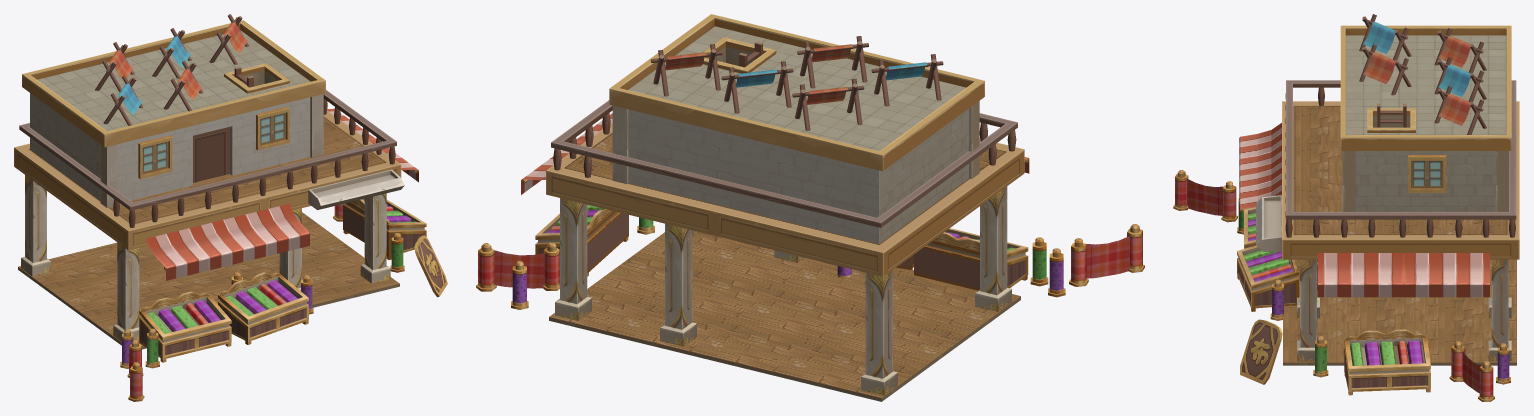
Rendered from zhucheng_buyidian.FBX.
3 views of the same model, side by side, from view 1: azimuth 30°, elevation 25°; view 2: azimuth 150°, elevation 25°; view 3: azimuth 270°, elevation 25° (orthographic). The views are drawn at different scales.
Parts seen in each view (by area): view 1: zhucheng_buyidian; view 2: zhucheng_buyidian; view 3: zhucheng_buyidian.
Boxes of the visible parts, bbox=[...] form: zhucheng_buyidian: bbox=[14, 14, 447, 401]; zhucheng_buyidian: bbox=[476, 14, 1144, 401]; zhucheng_buyidian: bbox=[1173, 14, 1519, 401].
Bounding box in the file's own units: 1175 × 635 × 869.
